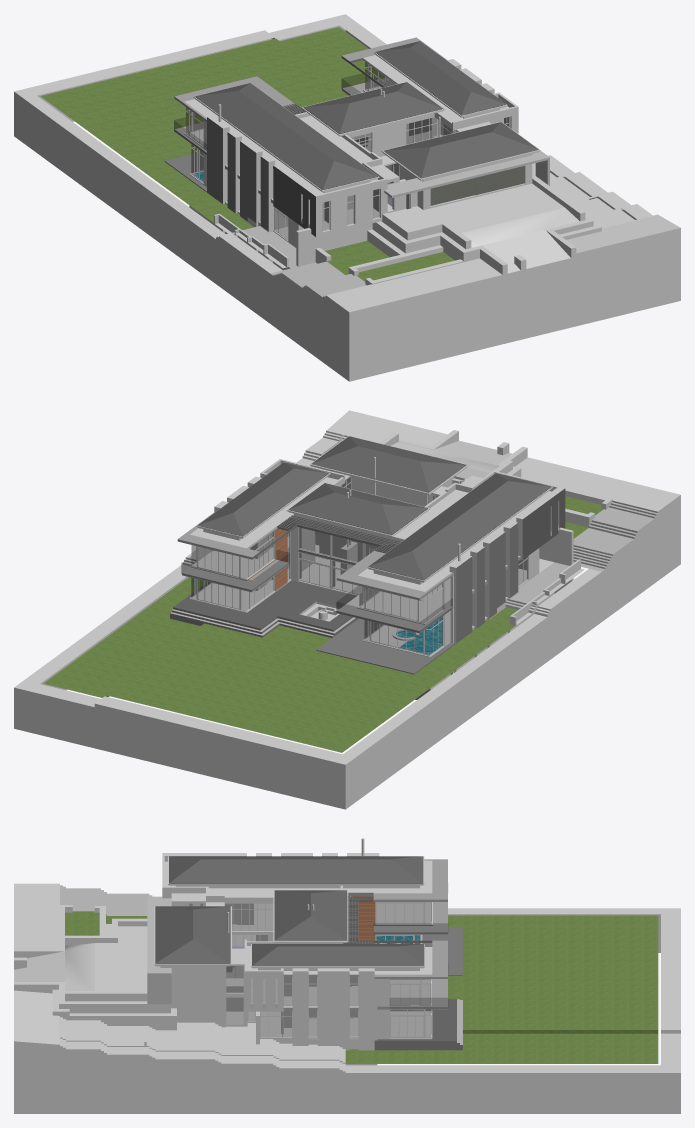
Rendered from House2.gltf.
3 renders of one model, top to bottom at view 1: azimuth 30°, elevation 25°; view 2: azimuth 150°, elevation 25°; view 3: azimuth 270°, elevation 25°, orthographic.
Visible parts, largest first — view 1: root, object 5; view 2: root, object 5, Component#382, Component#383; view 3: root, object 5, Component#382, Component#383.
Boxes of the visible parts, x1=… form: root: x1=14, y1=14, x2=680, y2=381; object 5: x1=186, y1=62, x2=508, y2=238; root: x1=14, y1=410, x2=680, y2=809; object 5: x1=191, y1=477, x2=527, y2=654; Component#382: x1=336, y1=586, x2=452, y2=632; Component#383: x1=181, y1=550, x2=289, y2=590; root: x1=14, y1=838, x2=680, y2=1113; object 5: x1=189, y1=903, x2=431, y2=1036; Component#382: x1=373, y1=923, x2=447, y2=933; Component#383: x1=390, y1=998, x2=447, y2=1008.
Size of the model in its own units: 38.04 by 15.05 by 66.61.
Materials: 15 (4 with a texture image).
